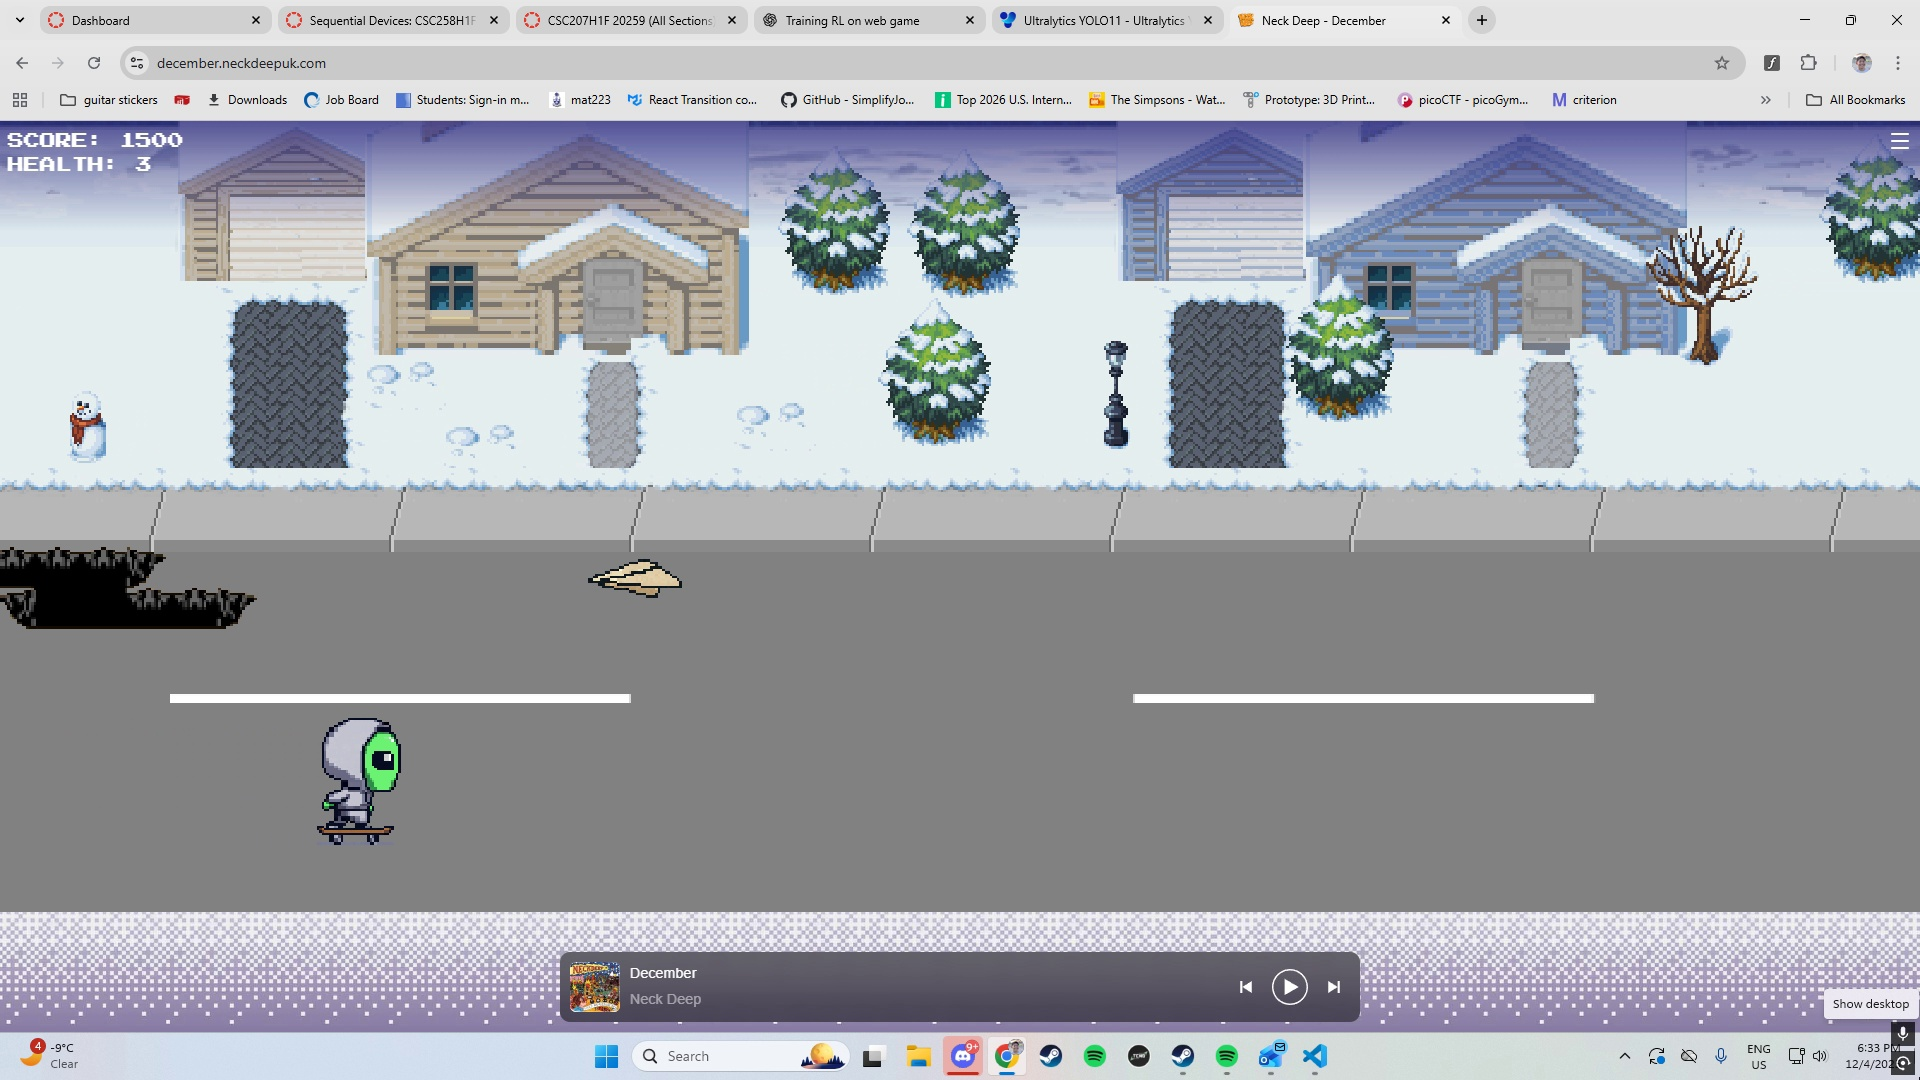Hole: (1, 544, 264, 636)
Plane: (581, 555, 692, 605)
Player: (313, 711, 411, 854)
